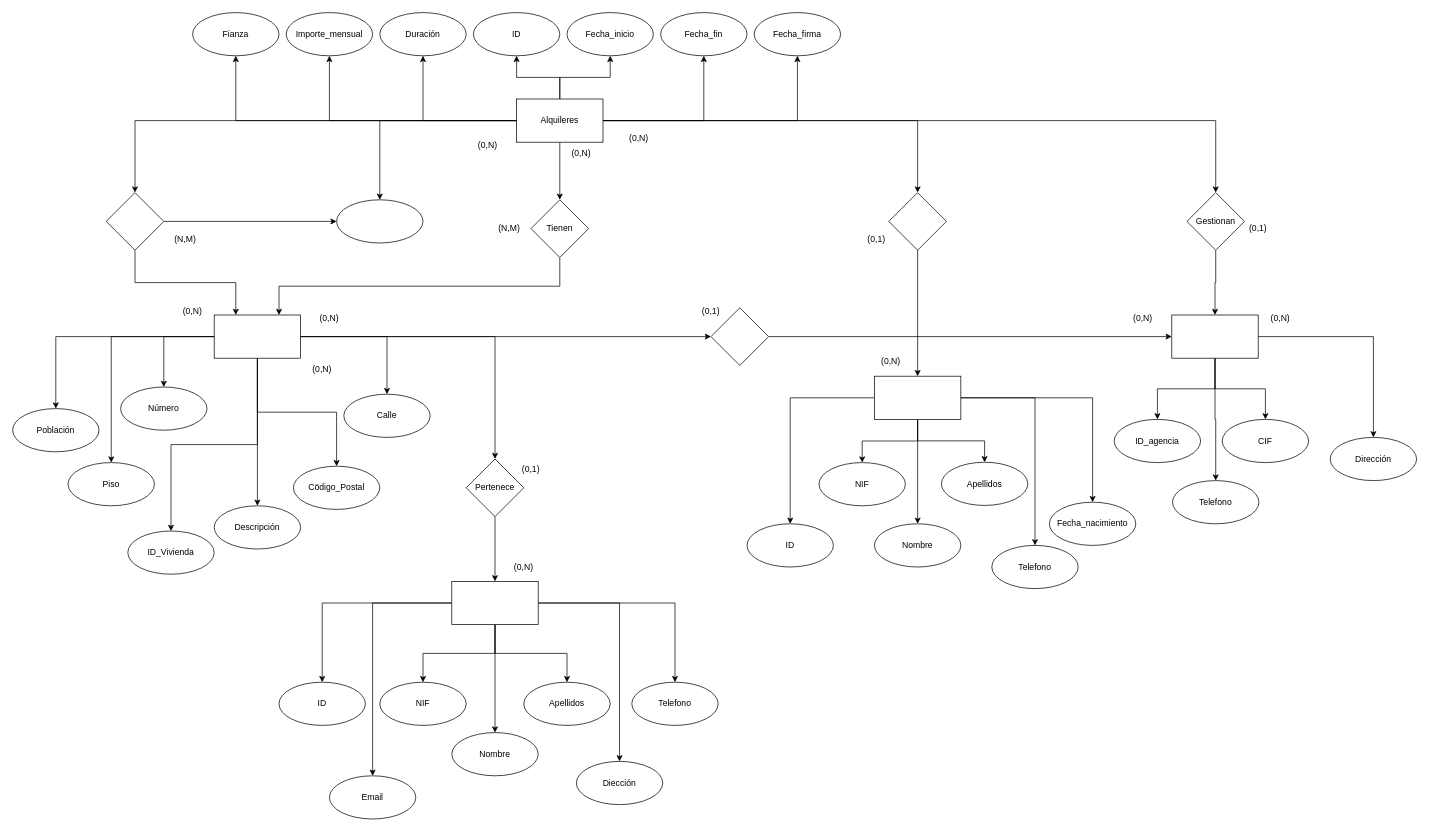
Image size: 1429x832. Some labels were removed from this diagram. The box of each missing label's shape, as (x1, y1, x2, y2) in pixels:
Agencia_inmobiliaria: (1171, 314, 1258, 358)
Anterior: (336, 199, 423, 243)
Inquilino: (874, 375, 961, 419)
Oferta: (710, 307, 769, 365)
Propietario: (451, 581, 538, 625)
Realizado: (888, 192, 946, 250)
renovación: (105, 192, 164, 250)
Vivienda: (213, 314, 301, 358)
